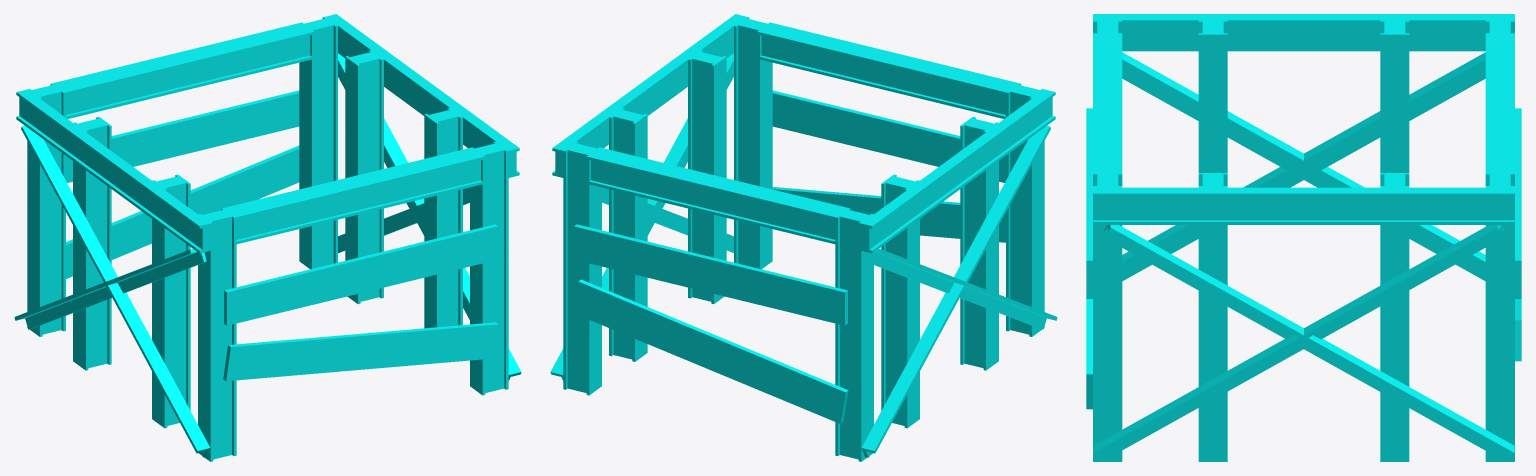
File: Elevator_Tunnel_01.fbx
3 renders of one model, left to right at view 1: azimuth 30°, elevation 25°; view 2: azimuth 150°, elevation 25°; view 3: azimuth 270°, elevation 25°, orthographic. The views are drawn at different scales.
Parts seen in each view (by area): view 1: Elevator_Tunnel_01; view 2: Elevator_Tunnel_01; view 3: Elevator_Tunnel_01.
Part boxes in pixels (x1,y1,x2,y2): Elevator_Tunnel_01: [14, 14, 521, 461]; Elevator_Tunnel_01: [550, 14, 1057, 461]; Elevator_Tunnel_01: [1086, 14, 1521, 461].
Bounding box in the file's own units: 0.2845 × 0.2 × 0.2875.
